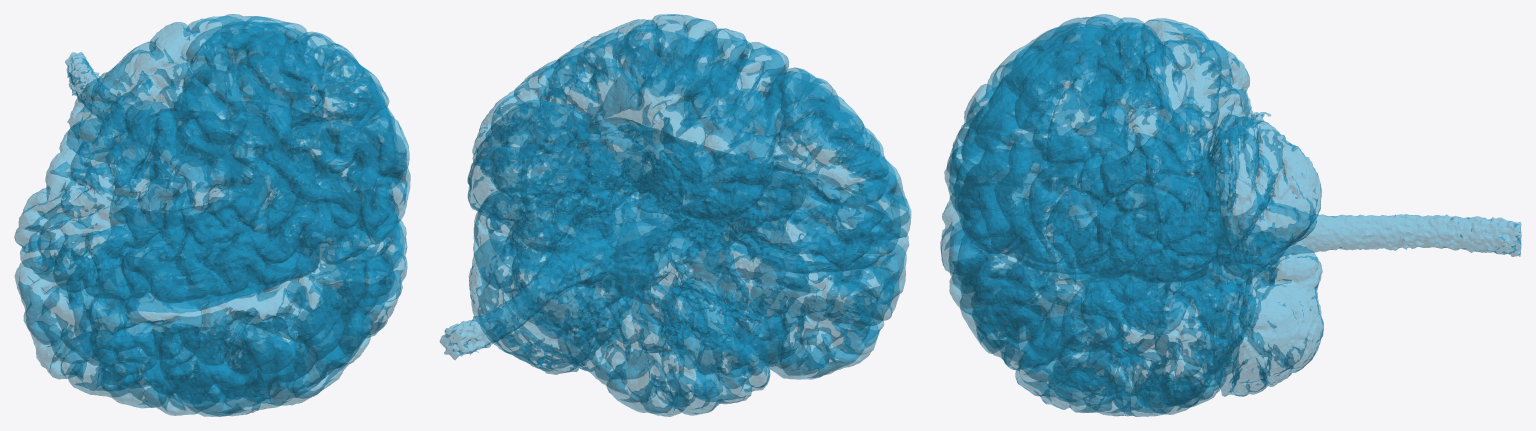
The model's file is brain-model.glb.
The picture shows the model from 3 angles, left to right: view 1: azimuth 30°, elevation 25°; view 2: azimuth 150°, elevation 25°; view 3: azimuth 270°, elevation 25°; orthographic projection. The views are drawn at different scales.
Visible parts, largest first — view 1: 3DFile%20brain%20MRI%20Nevit%20Dilmenstl; view 2: 3DFile%20brain%20MRI%20Nevit%20Dilmenstl; view 3: 3DFile%20brain%20MRI%20Nevit%20Dilmenstl.
Boxes of the visible parts, x1,y1,x2,y2 form: 3DFile%20brain%20MRI%20Nevit%20Dilmenstl: [14, 14, 410, 416]; 3DFile%20brain%20MRI%20Nevit%20Dilmenstl: [439, 14, 911, 416]; 3DFile%20brain%20MRI%20Nevit%20Dilmenstl: [940, 14, 1521, 416].
Bounding box in the file's own units: 1.08 × 0.9688 × 1.38.
